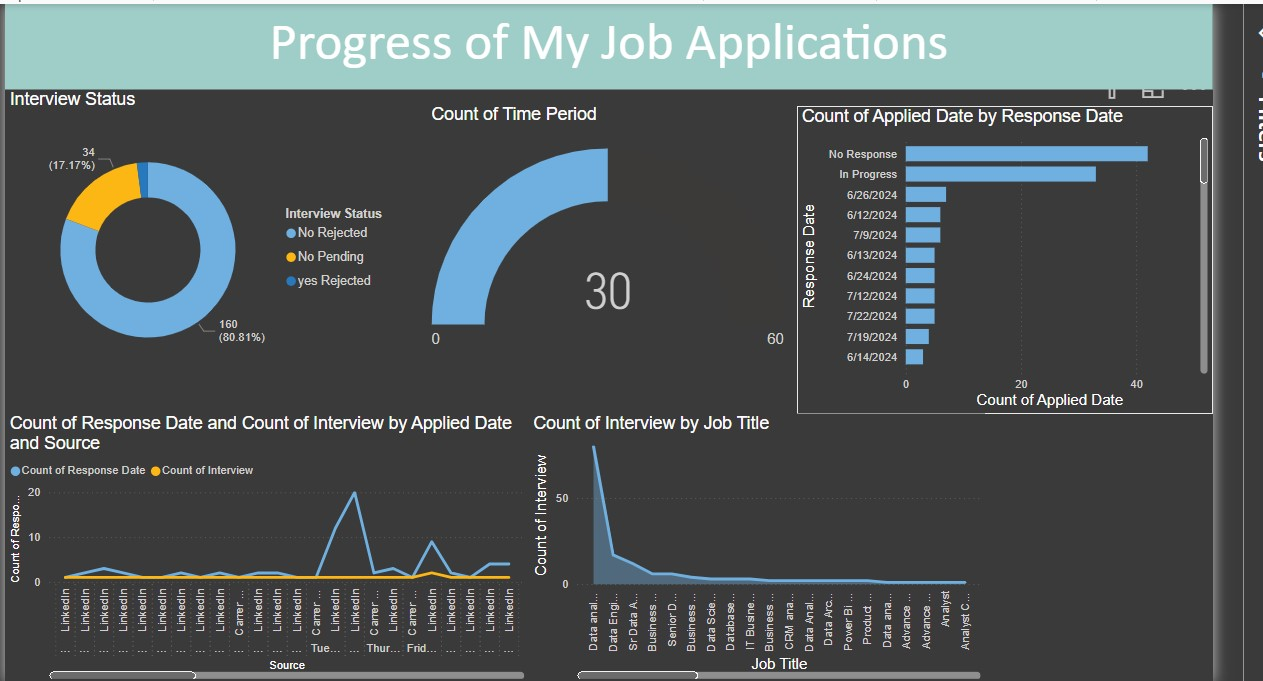

The dashboard page shown, as its layout file describes it:
{"tool":"powerbi","page":{"name":"Page 1","canvas":[1280,720],"ordinal":0},"visuals":[{"type":"gauge","fields":{"Y":["Count(Job Application Tracker.Time Period)"]},"box":[446.9,106.9,383.8,286.6],"z":0},{"type":"donutChart","title":"Interview Status","fields":{"Category":["Job Application Tracker.Interview","Job Application Tracker.Status"],"Y":["CountNonNull(Job Application Tracker.Job Title)"]},"box":[0,90.7,419.4,319],"z":1},{"type":"lineChart","fields":{"Category":["Job Application Tracker.Applied Date","Job Application Tracker.Source"],"Y":["CountNonNull(Job Application Tracker.Response Date)","Count(Job Application Tracker.Interview)"]},"box":[0,434,555.4,286.6],"z":2},{"type":"clusteredBarChart","fields":{"Category":["Job Application Tracker.Response Date"],"Y":["CountNonNull(Job Application Tracker.Applied Date)"]},"box":[840.4,108.5,440.4,325.5],"z":3},{"type":"stackedAreaChart","fields":{"Category":["Job Application Tracker.Job Title"],"Y":["CountNonNull(Job Application Tracker.Interview)"]},"box":[555.4,434,484.1,286.6],"z":4},{"type":"textbox","box":[0,0,1280.8,90.7],"z":5}]}

Visuals, with their boxes in screenshot pixels (x1, y1, x2, y2):
gauge - Count(Job Application Tracker.Time Period): Rect(433, 100, 791, 367)
"Interview Status" donutChart: Rect(16, 85, 408, 382)
lineChart - Job Application Tracker.Applied Date x Job Application Tracker.Source: Rect(16, 405, 534, 672)
clusteredBarChart - Job Application Tracker.Response Date x CountNonNull(Job Application Tracker.Applied Date): Rect(800, 101, 1211, 405)
stackedAreaChart - Job Application Tracker.Job Title x CountNonNull(Job Application Tracker.Interview): Rect(534, 405, 986, 672)
textbox: Rect(16, 0, 1211, 85)
